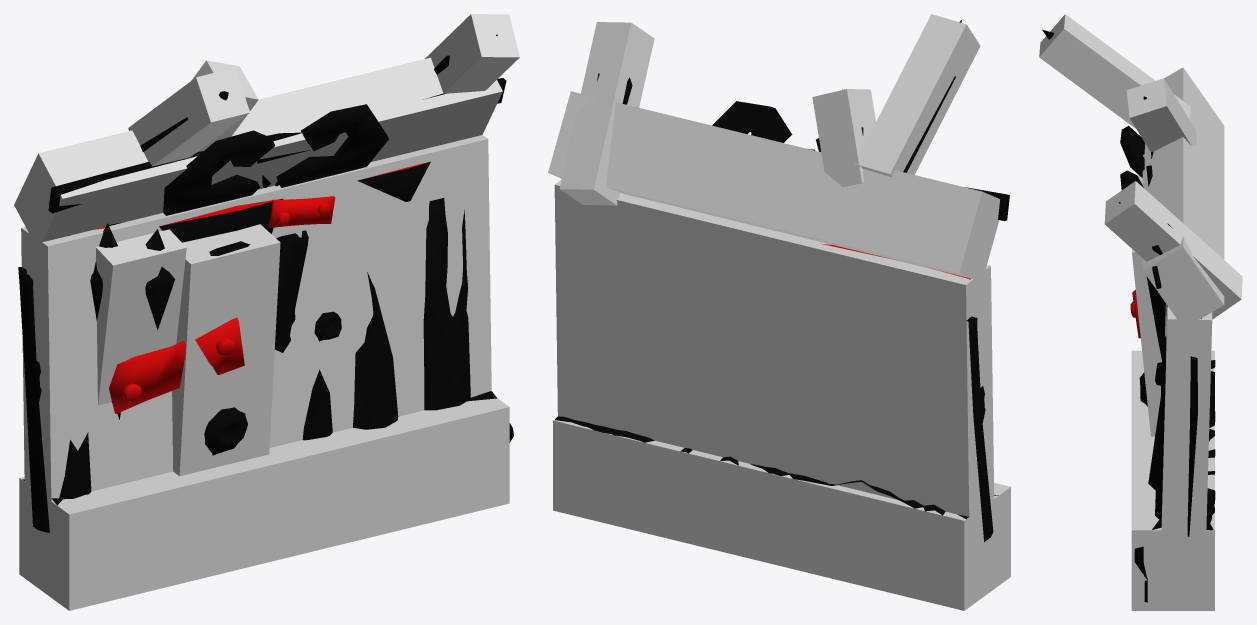
File: MSH_Wall_01.fbx
The picture shows the model from 3 angles, left to right: view 1: azimuth 30°, elevation 25°; view 2: azimuth 150°, elevation 25°; view 3: azimuth 270°, elevation 25°; orthographic projection. The views are drawn at different scales.
Visible parts, largest first — view 1: COL_Guts_Wall_02, COL_Guts_Wall_01, MSH_Guts_Wall_01, COL_Guts_Wall_06, COL_Guts_Wall_03, COL_Guts_Wall_04, COL_Guts_Wall_07, COL_Guts_Wall_09, COL_Guts_Wall_08; view 2: COL_Guts_Wall_02, COL_Guts_Wall_01, COL_Guts_Wall_06, COL_Guts_Wall_07, COL_Guts_Wall_09, MSH_Guts_Wall_01, COL_Guts_Wall_08; view 3: COL_Guts_Wall_06, COL_Guts_Wall_01, COL_Guts_Wall_02, MSH_Guts_Wall_01, COL_Guts_Wall_09, COL_Guts_Wall_07, COL_Guts_Wall_08, COL_Guts_Wall_03.
Part boxes in pixels (x1,y1,x2,y2): COL_Guts_Wall_02: [21, 135, 491, 501]; COL_Guts_Wall_01: [19, 398, 509, 610]; MSH_Guts_Wall_01: [18, 34, 513, 532]; COL_Guts_Wall_06: [14, 57, 502, 246]; COL_Guts_Wall_03: [172, 224, 280, 476]; COL_Guts_Wall_04: [96, 229, 186, 405]; COL_Guts_Wall_07: [128, 67, 249, 166]; COL_Guts_Wall_09: [425, 14, 519, 93]; COL_Guts_Wall_08: [191, 60, 258, 151]; COL_Guts_Wall_02: [554, 179, 994, 537]; COL_Guts_Wall_01: [553, 419, 1010, 610]; COL_Guts_Wall_06: [548, 91, 1000, 282]; COL_Guts_Wall_07: [855, 14, 980, 177]; COL_Guts_Wall_09: [559, 22, 654, 205]; MSH_Guts_Wall_01: [555, 20, 1009, 542]; COL_Guts_Wall_08: [812, 89, 875, 186]; COL_Guts_Wall_06: [1142, 67, 1224, 327]; COL_Guts_Wall_01: [1131, 350, 1214, 610]; COL_Guts_Wall_02: [1161, 304, 1212, 548]; MSH_Guts_Wall_01: [1042, 29, 1215, 602]; COL_Guts_Wall_09: [1104, 181, 1242, 319]; COL_Guts_Wall_07: [1039, 14, 1190, 128]; COL_Guts_Wall_08: [1126, 78, 1196, 151]; COL_Guts_Wall_03: [1132, 249, 1161, 436].
Bounding box in the file's own units: 4.78 × 5.42 × 2.2.
